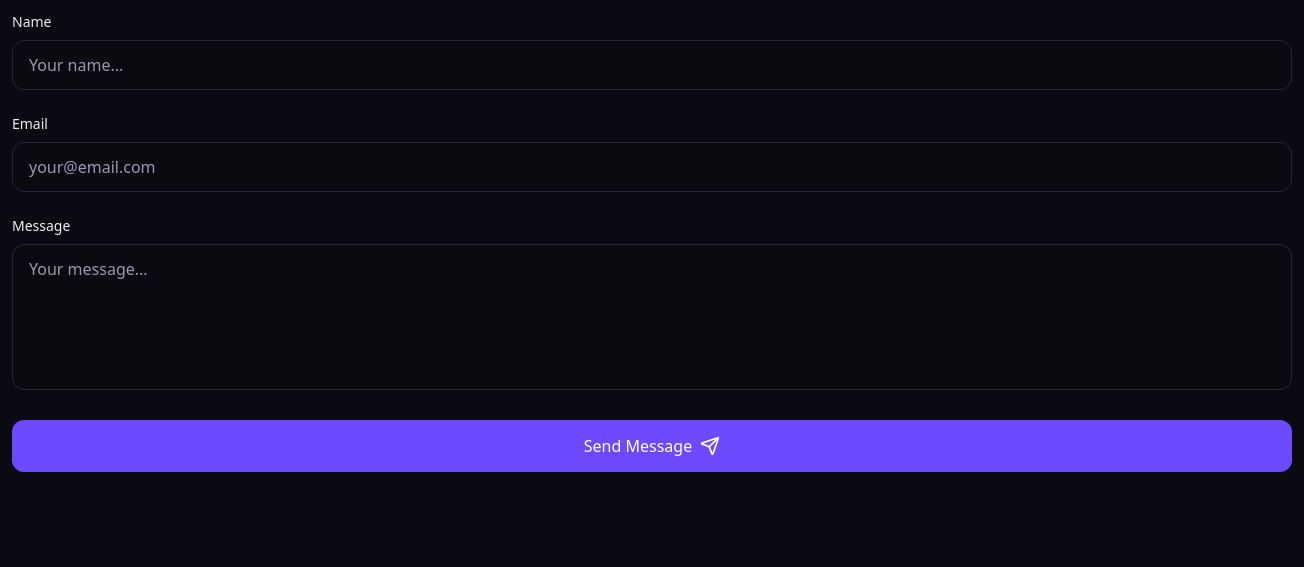
it: ContactForm › shows the error text EmailJS returns and keeps what was typed
Type "Ada Lovelace" into the field labelled "Name". click: (652, 65)
box: x1=12 y1=40 x2=1292 y2=90
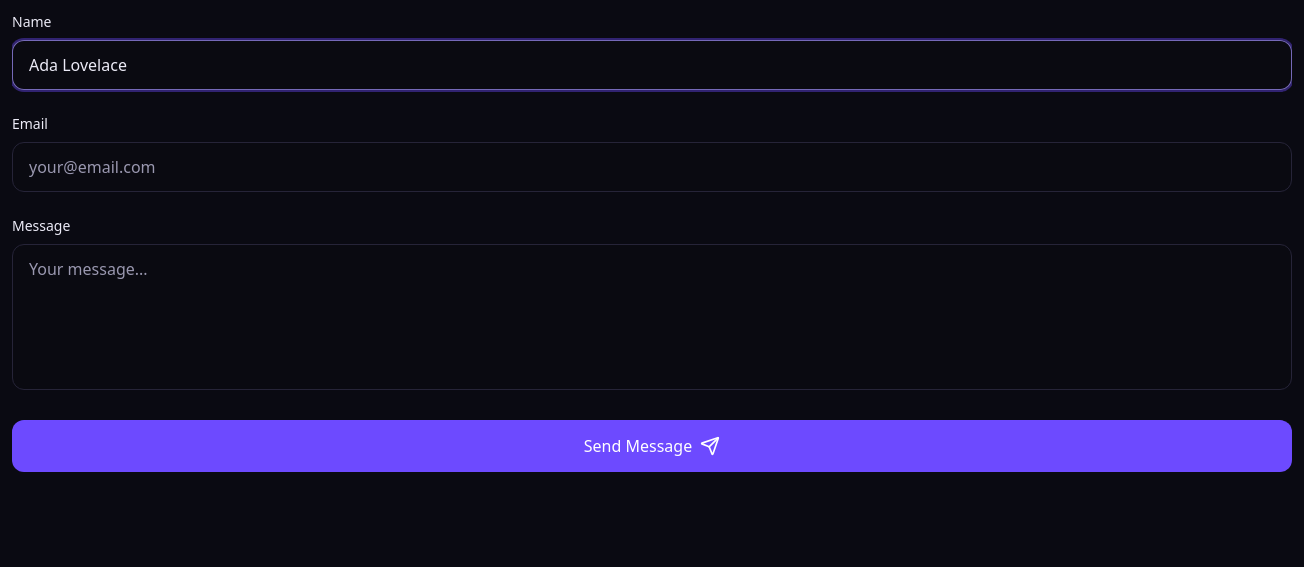
Type "ada@example.com" into the field labelled "Email". click: (652, 167)
box: x1=12 y1=142 x2=1292 y2=192
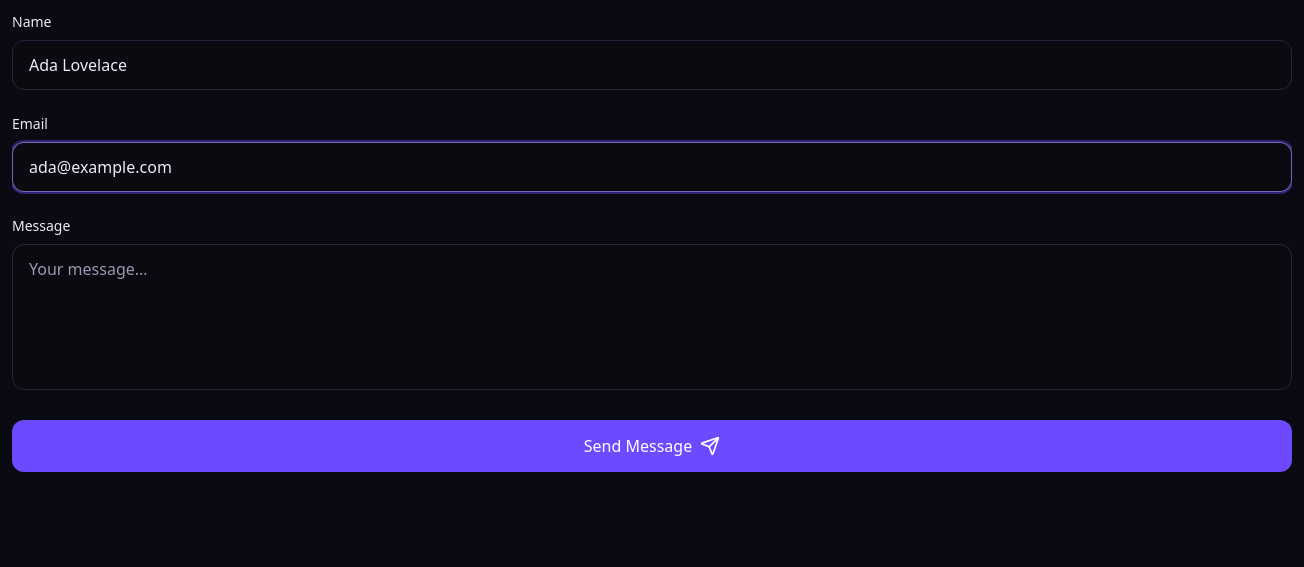
Type "Let's work together." into the text box labelled "Message". click: (652, 317)
box: x1=12 y1=244 x2=1292 y2=390
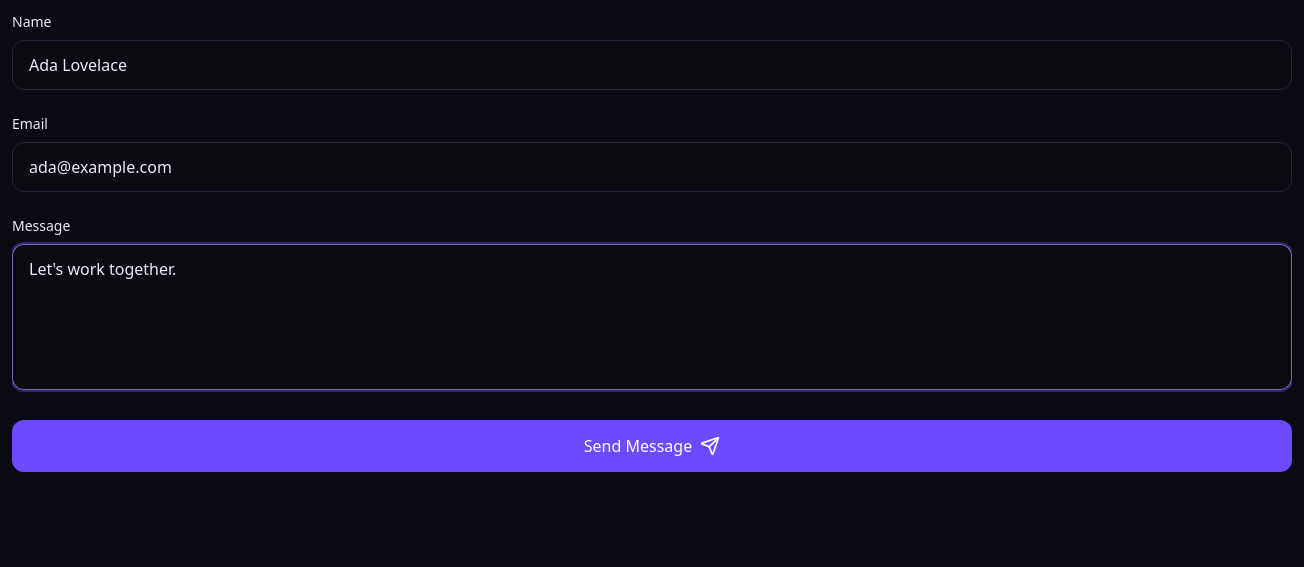
Click the button "Send Message". click: click(652, 446)
box: x1=12 y1=420 x2=1292 y2=472
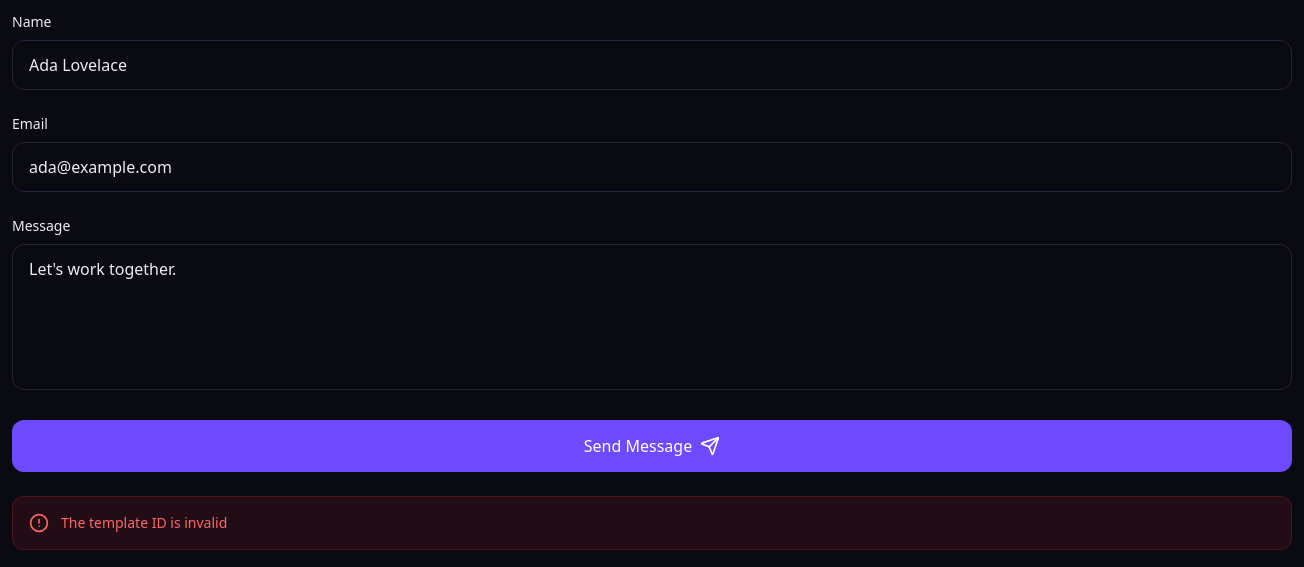
Result: the message reads "The template ID is invalid" at x1=61 y1=513 x2=227 y2=532
